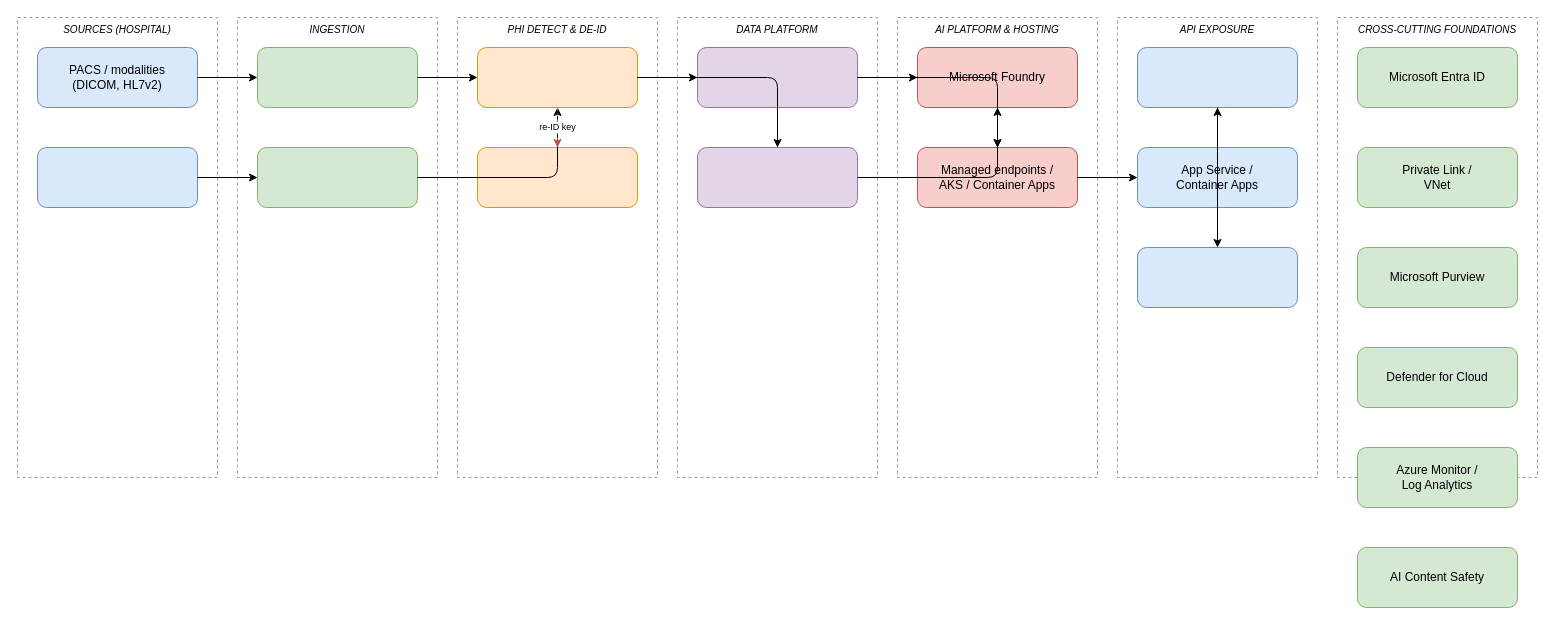
Image size: 1555x625. Some labels were removed from this diagram. The centre of each missing label's shape, as x and y in pixels:
AHDS DICOM service: point (337, 77)
AHDS FHIR service: point (337, 177)
AI Services (de-ID) + Functions: point (557, 77)
Azure API Management: point (1217, 77)
Azure Data Lake Storage: point (777, 177)
Azure Key Vault (re-ID mapping): point (557, 177)
Clinician apps / downstream systems: point (1217, 277)
EHR / reports / notes (multimodal): point (117, 177)
Fabric / Snowflake / Databricks: point (777, 77)
